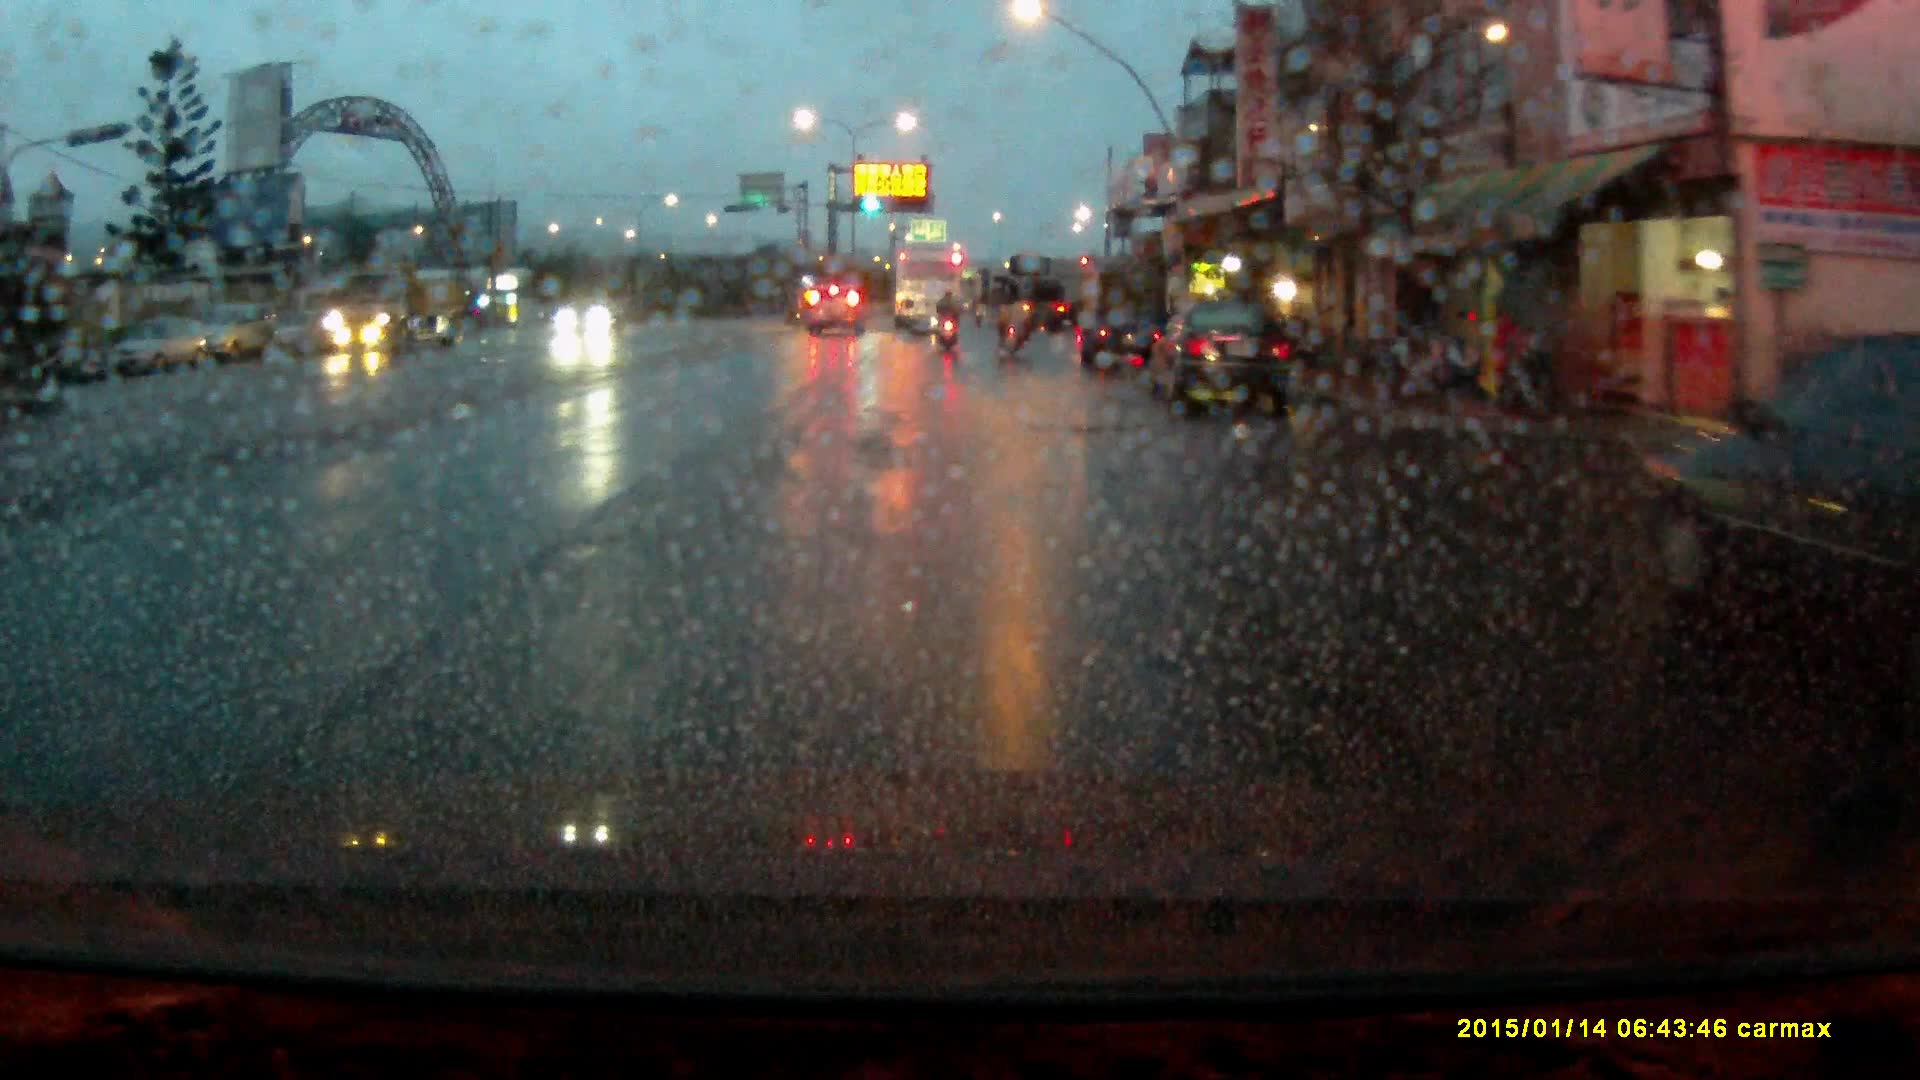rider: (993, 276, 1028, 358), (934, 286, 963, 350)
vehicle: (1625, 339, 1920, 625), (1151, 304, 1300, 421), (317, 263, 475, 350), (1076, 260, 1171, 365), (893, 247, 962, 335), (110, 318, 202, 378), (1006, 255, 1073, 337), (192, 302, 277, 360), (805, 278, 869, 337), (559, 295, 622, 335)
